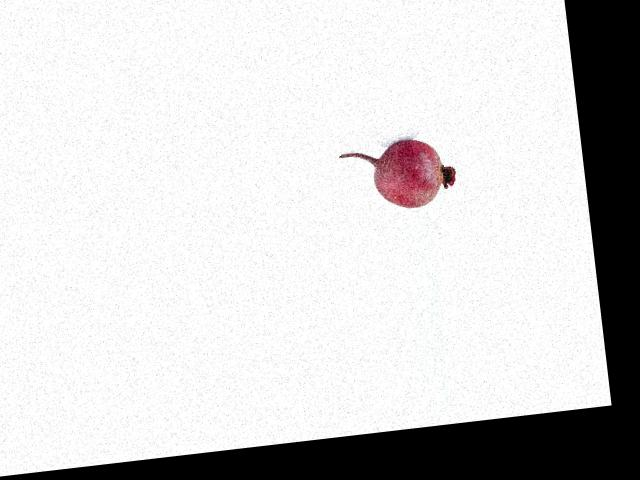beet: (338, 134, 458, 215)
